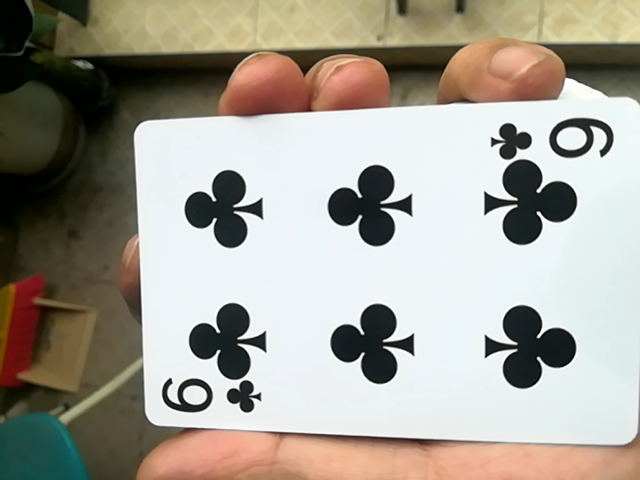mh 6: (130, 99, 633, 453)
